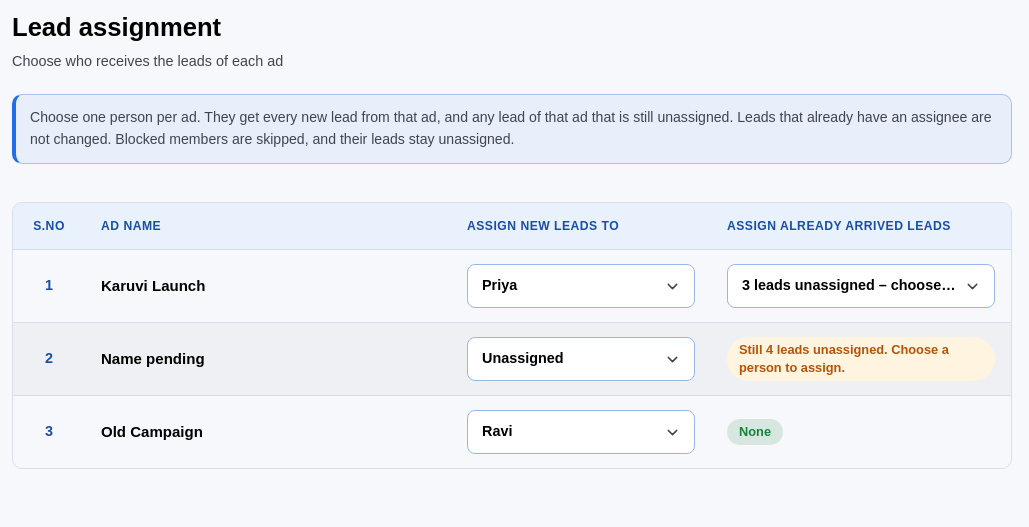
Test: AdAssignmentSection › does not ask when the ad has no unassigned leads, it just saves the rule
Expected: the text "Karuvi Launch" is shown, [101, 277, 205, 294]
Select "Priya" in the dropdown named "new leads of" at coordinates (581, 432), box [467, 410, 695, 454]
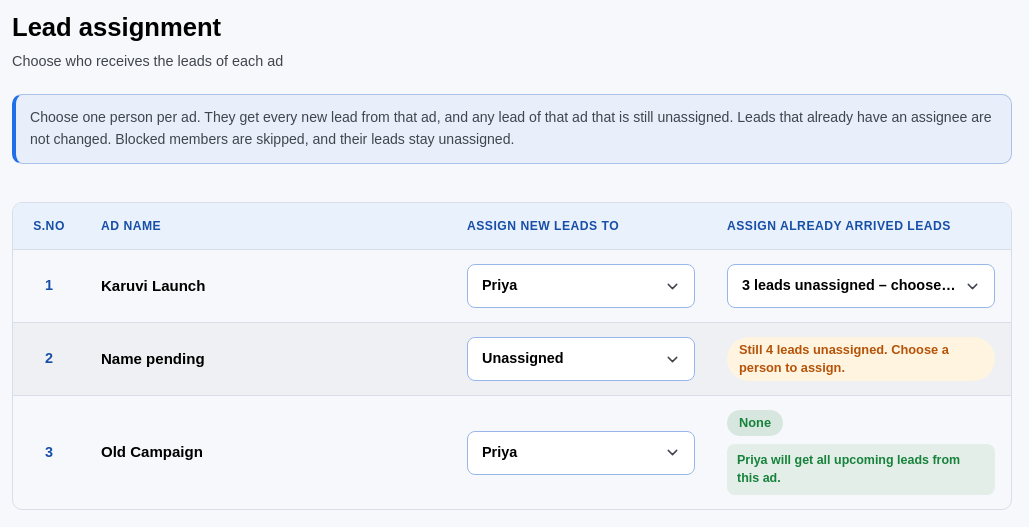
Expected: the text "Priya will get all upcoming leads from this ad." is shown, [727, 444, 995, 495]
